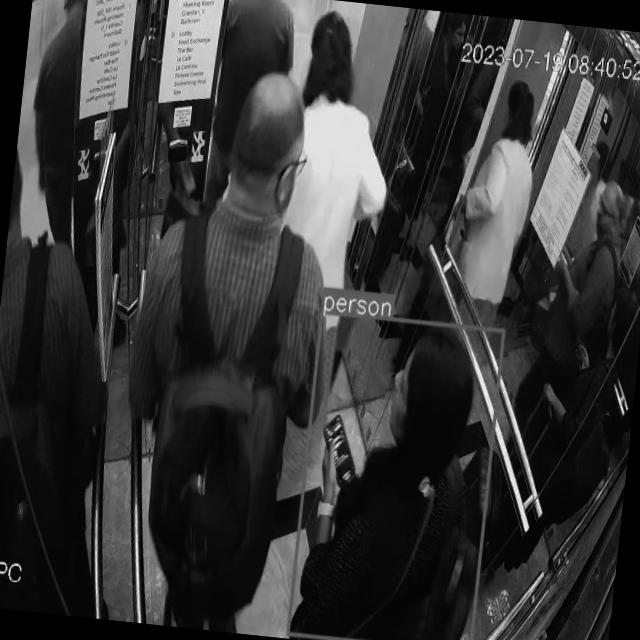person: (104, 60, 334, 637), (286, 309, 503, 640), (0, 125, 140, 617), (244, 16, 373, 534), (510, 167, 631, 462), (209, 0, 314, 180)
